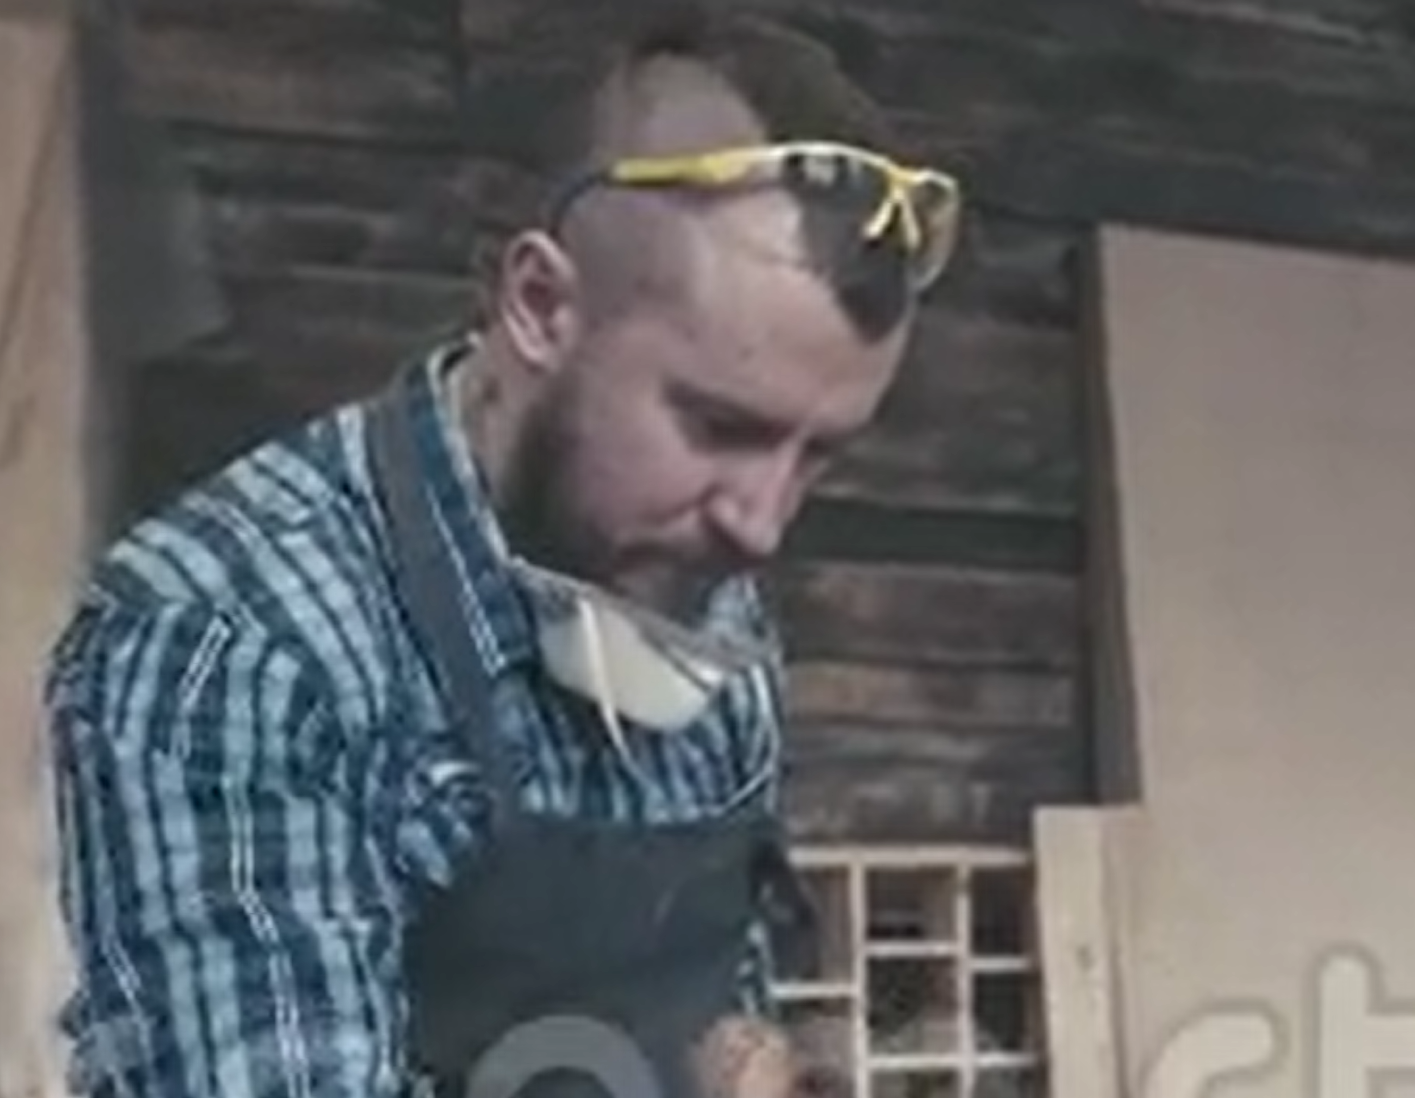mask_weared_incorrect: (489, 199, 926, 713)
